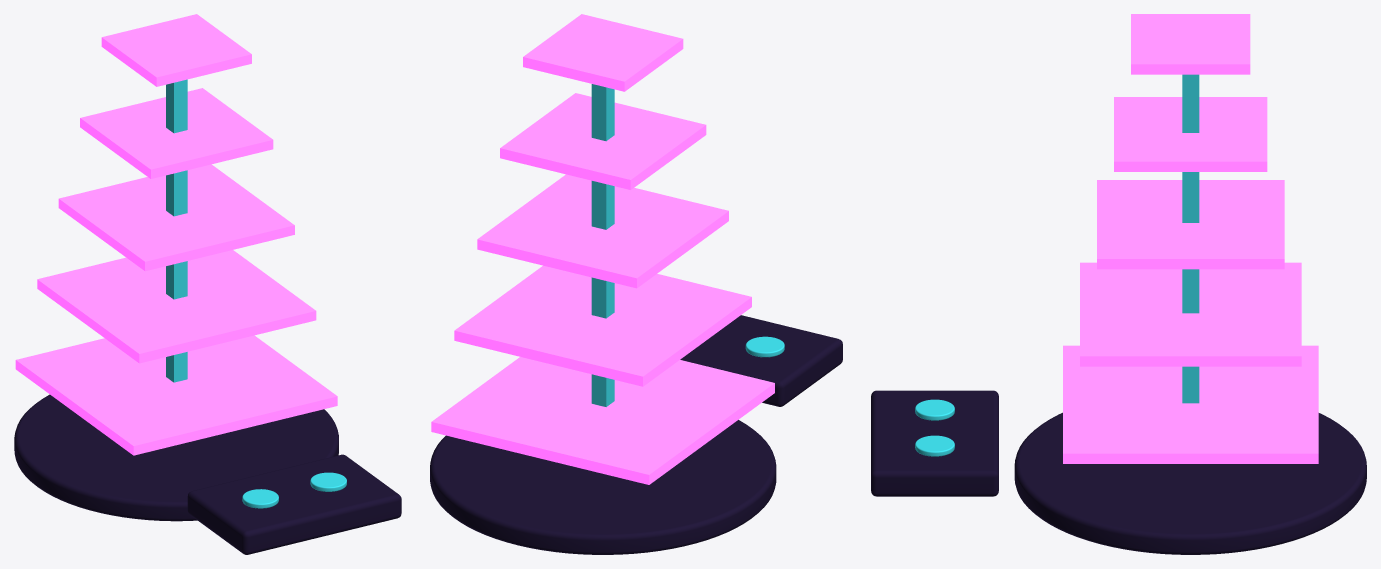
Rendered from theme_03.glb.
3 renders of one model, left to right at view 1: azimuth 30°, elevation 25°; view 2: azimuth 150°, elevation 25°; view 3: azimuth 270°, elevation 25°, orthographic. The views are drawn at different scales.
Parts seen in each view (by area): view 1: theme_03; view 2: theme_03; view 3: theme_03.
Boxes of the visible parts, x1=… form: theme_03: x1=14, y1=14, x2=401, y2=554; theme_03: x1=430, y1=14, x2=842, y2=554; theme_03: x1=871, y1=14, x2=1366, y2=554.
Size of the model in its own units: 1.24 by 1.72 by 1.75.
